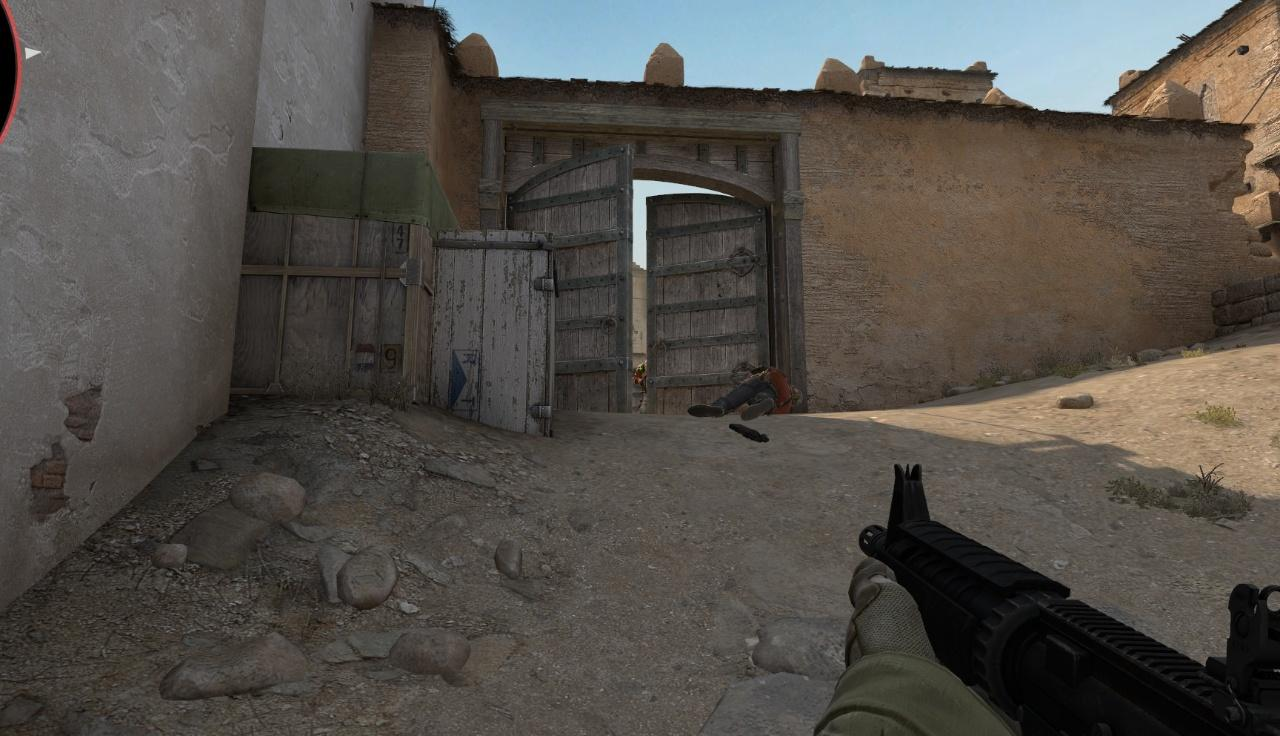rifle: (813, 462, 1280, 736)
tt: (633, 350, 648, 414)
